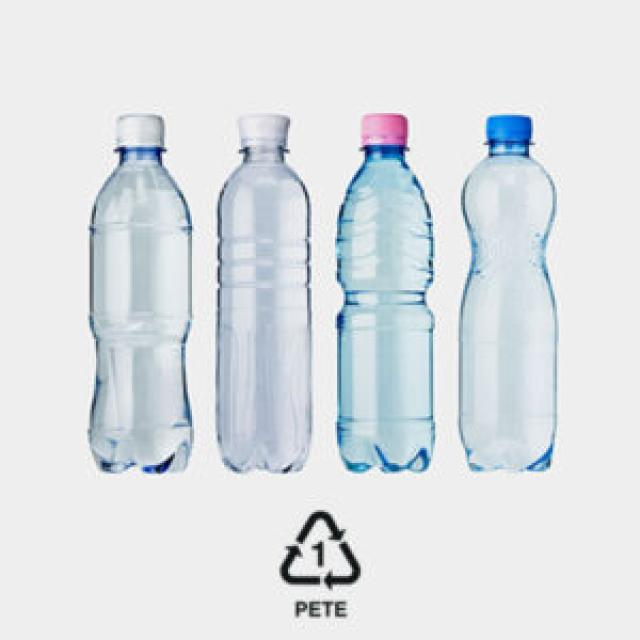bottom: (218, 406, 308, 472), (339, 418, 432, 472), (90, 425, 189, 473), (465, 430, 553, 471)
neck: (338, 146, 432, 291), (462, 116, 555, 244), (219, 138, 309, 241), (91, 149, 190, 231)
